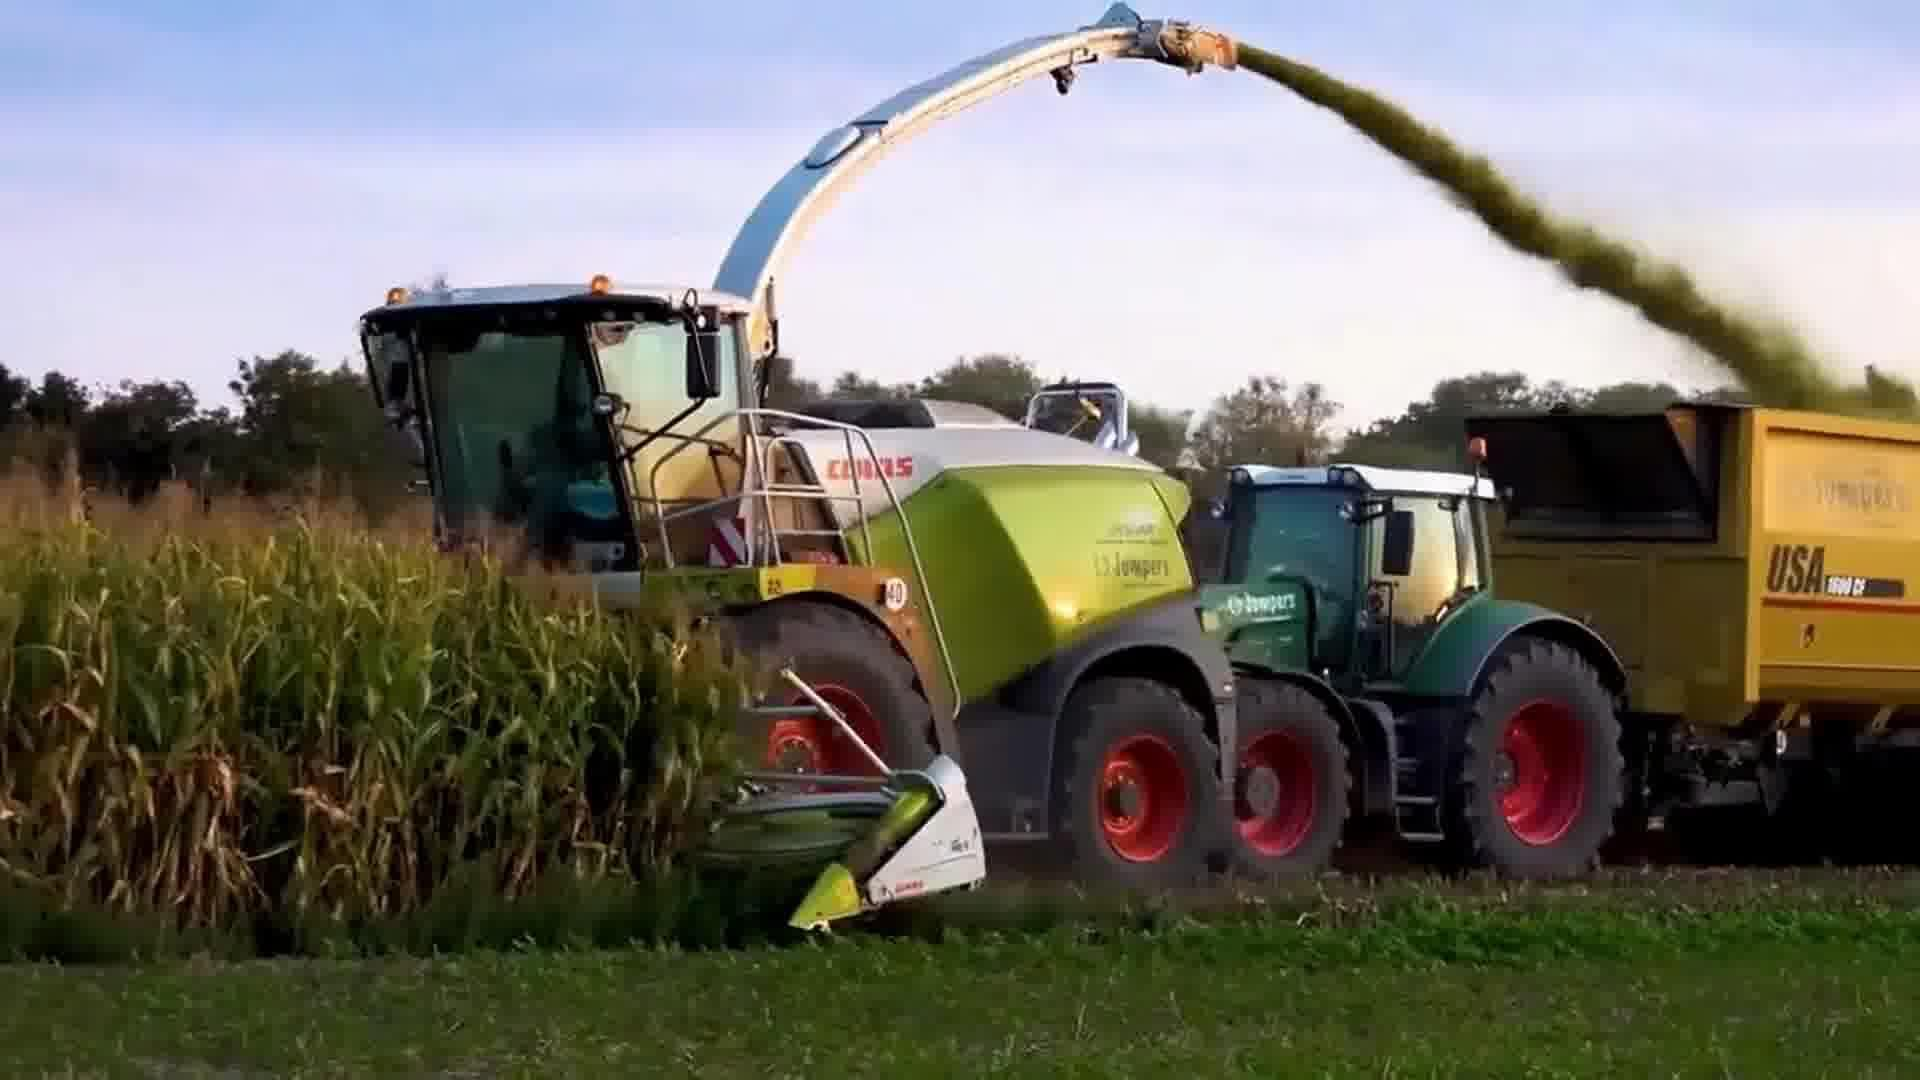combine harvester: (345, 0, 1644, 951)
tractor: (1167, 434, 1650, 891)
trailer: (1455, 392, 1920, 874)
